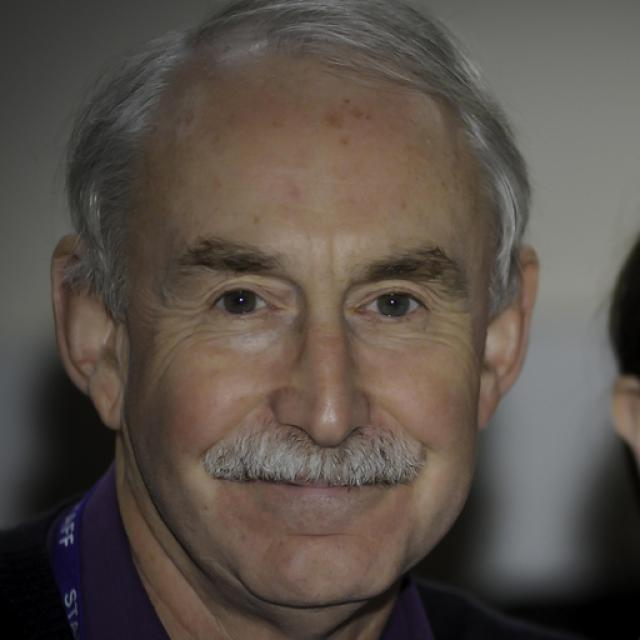Pigmentation: (319, 95, 373, 149)
